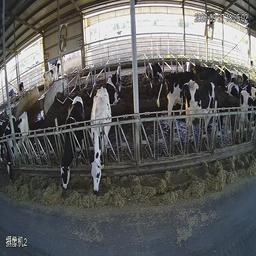cow: (3, 106, 36, 219), (86, 85, 117, 199), (55, 91, 87, 199), (181, 79, 224, 149), (192, 58, 229, 94), (240, 87, 255, 154), (160, 65, 177, 122), (103, 67, 127, 107), (39, 59, 63, 89), (224, 68, 242, 97), (147, 56, 164, 80)
